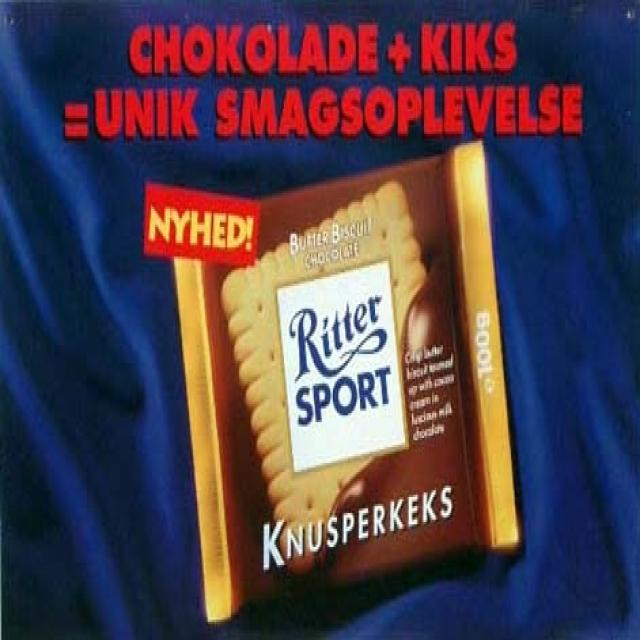rittersport: (273, 255, 410, 478)
